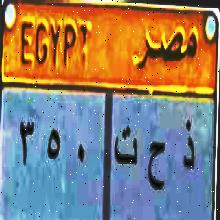0: (76, 136, 87, 174)
3: (15, 113, 36, 173)
5: (44, 122, 62, 172)
7aa: (146, 139, 166, 194)
taa: (115, 124, 139, 176)
zaal: (180, 116, 198, 182)
